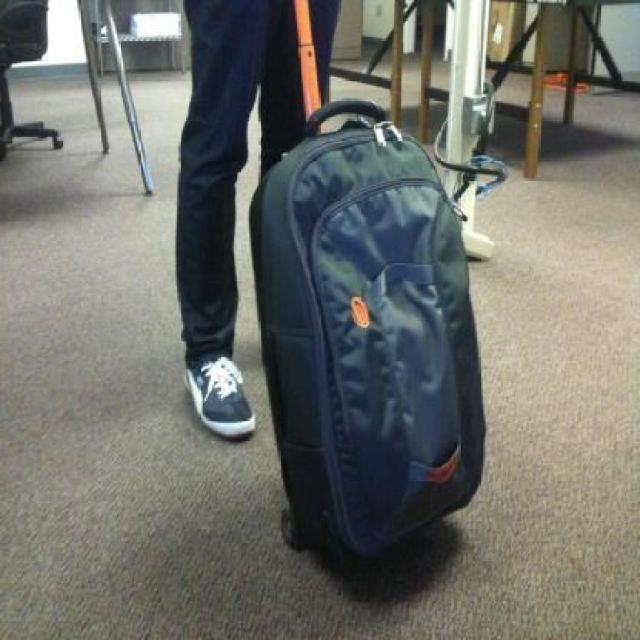backpack: (248, 94, 490, 568)
